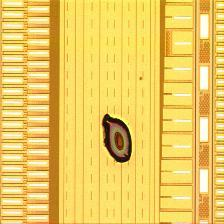PARTICLE: (100, 113, 135, 166)
